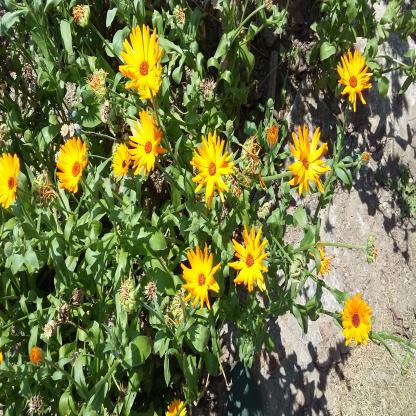marigold: (193, 131, 235, 208), (119, 22, 163, 92), (289, 124, 330, 198), (229, 224, 267, 293), (128, 110, 168, 174), (182, 245, 219, 309), (336, 49, 372, 112), (56, 136, 89, 193), (340, 291, 372, 347), (0, 151, 21, 210), (134, 60, 162, 101), (112, 143, 132, 179)
